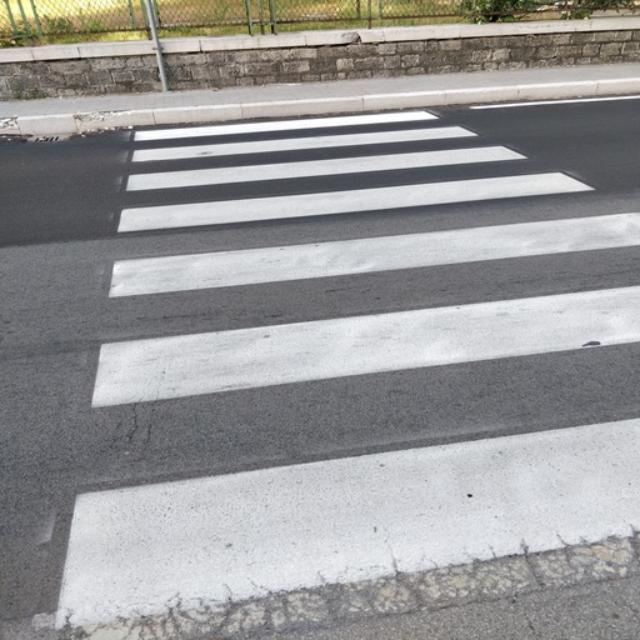sidewalk: (52, 109, 631, 633)
